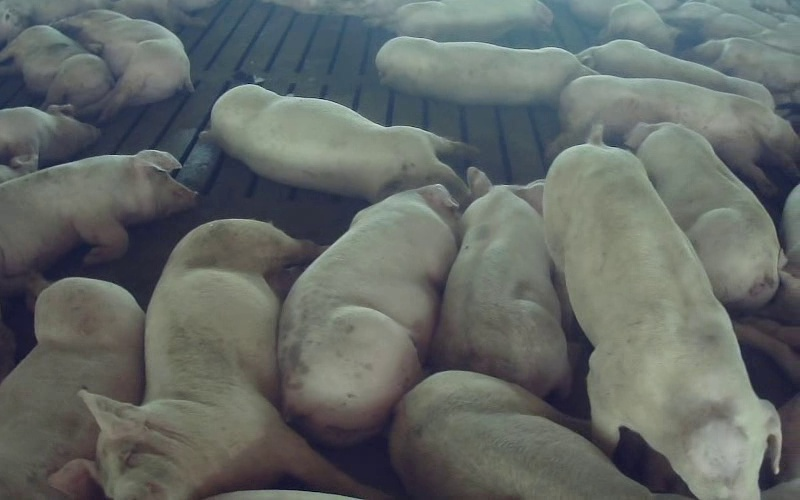pig: (544, 128, 777, 499), (278, 185, 457, 445), (390, 371, 651, 499), (0, 278, 144, 499), (432, 168, 570, 396), (211, 85, 472, 203), (548, 75, 799, 195), (626, 123, 780, 311), (0, 150, 195, 297), (54, 10, 192, 121), (376, 36, 593, 104), (577, 40, 774, 108), (393, 0, 552, 40), (0, 105, 99, 163)
